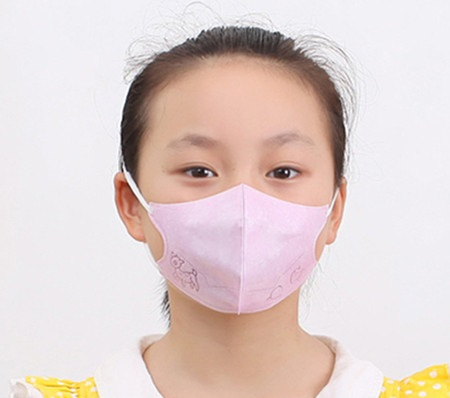face_mask: (145, 69, 334, 316)
